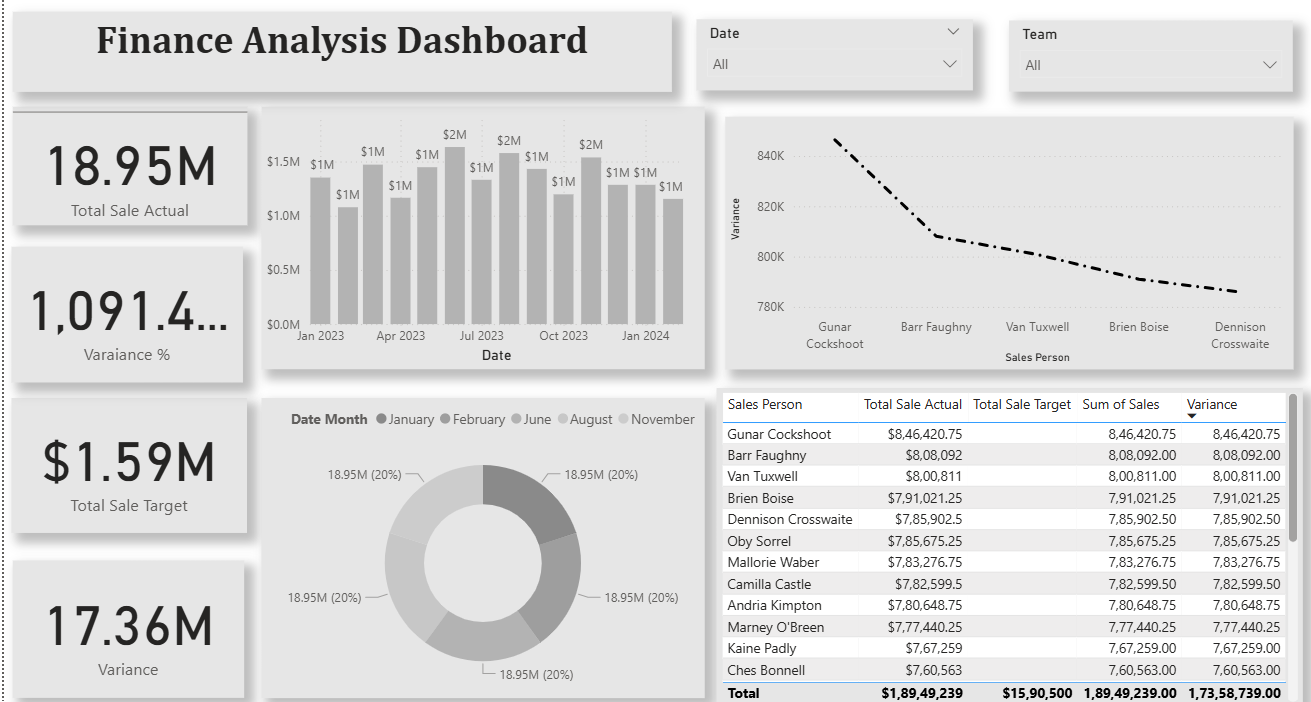

The dashboard page shown, as its layout file describes it:
{"tool":"powerbi","page":{"name":"Page 1","canvas":[1280,720],"ordinal":0},"visuals":[{"type":"card","fields":{"Values":["Actual.Total Sale Actual"]},"box":[8.6,121.1,229.9,116.2],"z":0},{"type":"card","fields":{"Values":["Actual.Total Sale Target"]},"box":[6.9,406.2,230.5,131.7],"z":1000},{"type":"card","fields":{"Values":["Actual.Varaiance %"]},"box":[6.9,258,226.4,133.1],"z":2000},{"type":"card","fields":{"Values":["Actual.Variance"]},"box":[8.2,565.4,226.4,134.5],"z":3000},{"type":"columnChart","title":" Sale Actual and Sale Target","fields":{"Category":["Actual.Date"],"Y":["Actual.Total Sale Actual","Actual.Total Sale Target"]},"box":[252.5,120.8,433.6,256.6],"z":4000},{"type":"donutChart","fields":{"Y":["Actual.Sales"],"Category":["Targets.Date.Variation.Date Hierarchy.Month"]},"box":[252.5,406.2,433.6,293.7],"z":5000},{"type":"tableEx","fields":{"Values":["Actual.Sales Person","Actual.Total Sale Actual","Actual.Total Sale Target","Actual.Sales","Actual.Variance"]},"box":[697.1,396.6,573.6,312.9],"z":6000},{"type":"lineChart","fields":{"Category":["Actual.Sales Person"],"Y":["Actual.Variance"]},"box":[705.3,130.4,555.7,247],"z":7000},{"type":"slicer","fields":{"Values":["dimPeople.Team"]},"box":[983.2,36.7,277.6,69.7],"z":8000},{"type":"textbox","box":[8.6,28.1,644.4,78.3],"z":9000},{"type":"slicer","fields":{"Values":["Actual.Date"]},"box":[677.4,35.5,270.2,69.7],"z":10000}]}

Visuals, with their boxes on the page's 1280x720 design canvas (x1, y1, x2, y2). These are canvas units, not pixel positions in the 1311x702 screenshot, which may show the page scaled, cropped or inside an application window:
card - Actual.Total Sale Actual: {"x1": 9, "y1": 121, "x2": 238, "y2": 237}
card - Actual.Total Sale Target: {"x1": 7, "y1": 406, "x2": 237, "y2": 538}
card - Actual.Varaiance %: {"x1": 7, "y1": 258, "x2": 233, "y2": 391}
card - Actual.Variance: {"x1": 8, "y1": 565, "x2": 235, "y2": 700}
" Sale Actual and Sale Target" columnChart: {"x1": 252, "y1": 121, "x2": 686, "y2": 377}
donutChart - Actual.Sales x Targets.Date.Variation.Date Hierarchy.Month: {"x1": 252, "y1": 406, "x2": 686, "y2": 700}
tableEx - Actual.Sales Person x Actual.Total Sale Actual: {"x1": 697, "y1": 397, "x2": 1271, "y2": 710}
lineChart - Actual.Sales Person x Actual.Variance: {"x1": 705, "y1": 130, "x2": 1261, "y2": 377}
slicer - dimPeople.Team: {"x1": 983, "y1": 37, "x2": 1261, "y2": 106}
textbox: {"x1": 9, "y1": 28, "x2": 653, "y2": 106}
slicer - Actual.Date: {"x1": 677, "y1": 36, "x2": 948, "y2": 105}
